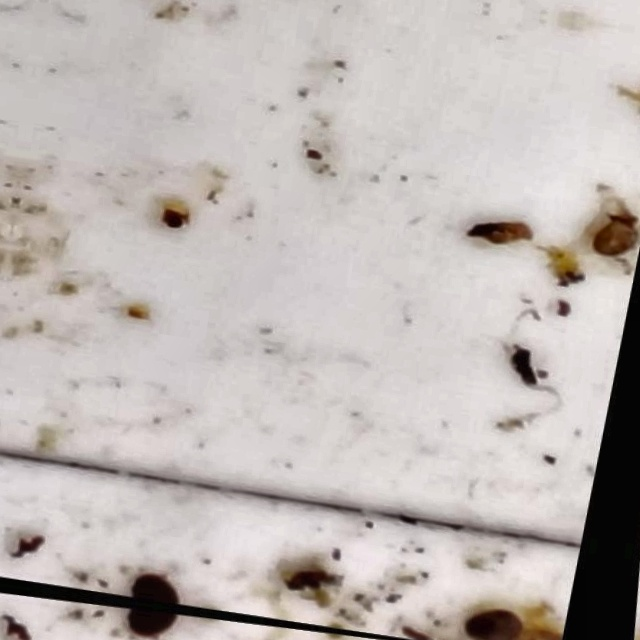varroa: (132, 572, 191, 607)
